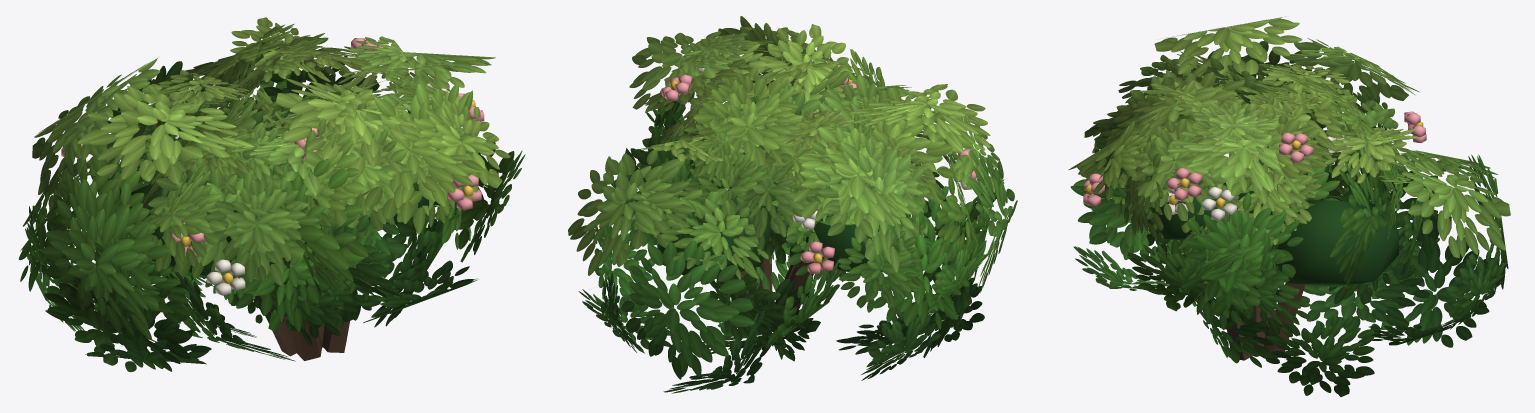
File: bush.gltf
The picture shows the model from 3 angles, left to right: view 1: azimuth 30°, elevation 25°; view 2: azimuth 150°, elevation 25°; view 3: azimuth 270°, elevation 25°; orthographic projection. The views are drawn at different scales.
Visible parts, largest first — view 1: Leaves_summer, Stems; view 2: Leaves_summer, Stems; view 3: Leaves_summer, Stems.
Part boxes in pixels (x1,y1,x2,y2): Leaves_summer: (18,17,525,372); Stems: (61,38,484,360); Leaves_summer: (568,16,1017,393); Stems: (660,59,977,331); Leaves_summer: (1068,16,1510,396); Stems: (1083,95,1426,360).
Bounding box in the file's own units: 1.61 × 1.17 × 1.64.
5 materials, 1 textured.
